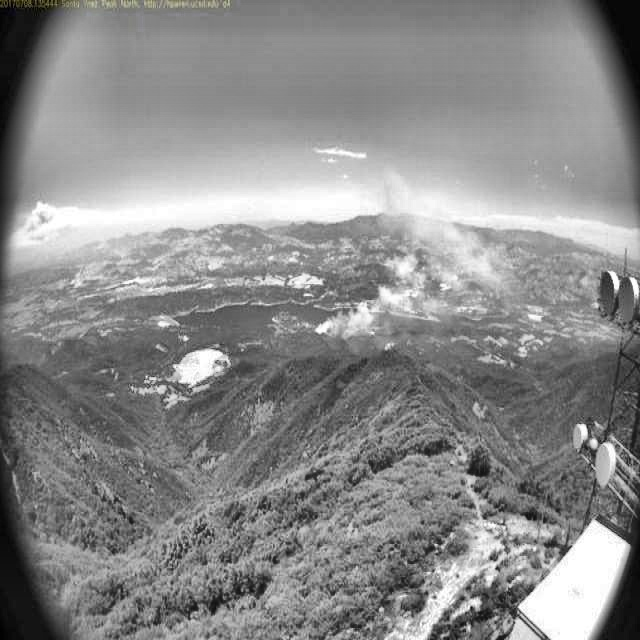smoke: (312, 161, 520, 344)
